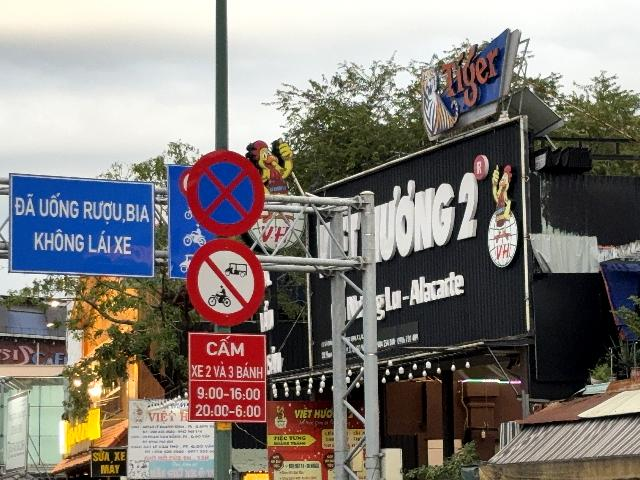cam-dung-va-do-xe: (187, 146, 267, 238)
cam-xe-2-banh-3-banh: (186, 238, 266, 326)
